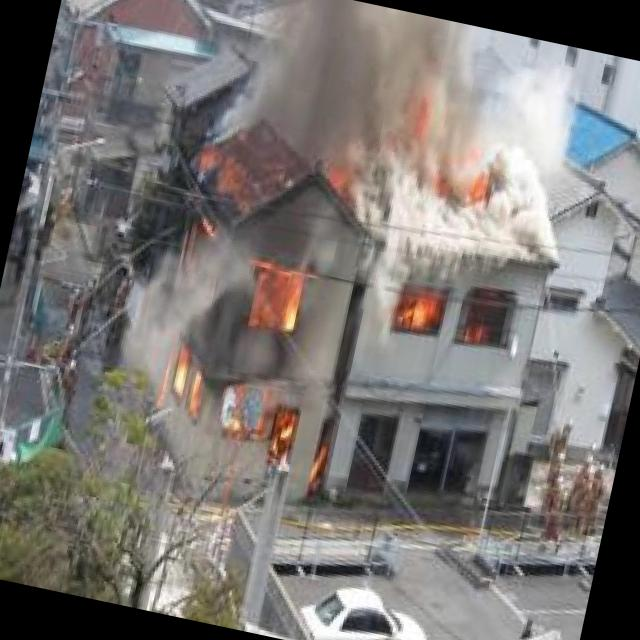Fire: (134, 148, 383, 504), (388, 274, 451, 342)
Smoke: (219, 0, 597, 273)
